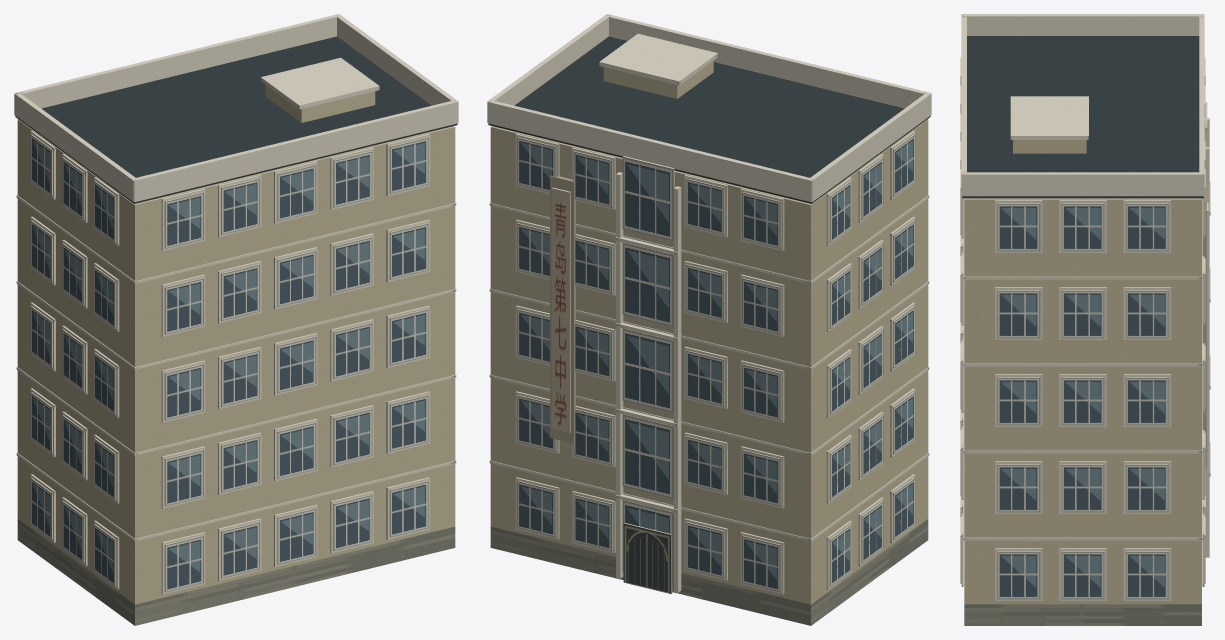
The model's file is SM_QD_School_EastAcademic.fbx.
The picture shows the model from 3 angles, left to right: view 1: azimuth 30°, elevation 25°; view 2: azimuth 150°, elevation 25°; view 3: azimuth 270°, elevation 25°; orthographic projection.
Visible parts, largest first — view 1: SM_QD_School_EastAcademic; view 2: SM_QD_School_EastAcademic; view 3: SM_QD_School_EastAcademic.
Part boxes in pixels (x1,y1,x2,y2): SM_QD_School_EastAcademic: (14,14,458,625); SM_QD_School_EastAcademic: (487,14,931,625); SM_QD_School_EastAcademic: (960,14,1210,625).
Bounding box in the file's own units: 8.37 × 5.47 × 11.2.
